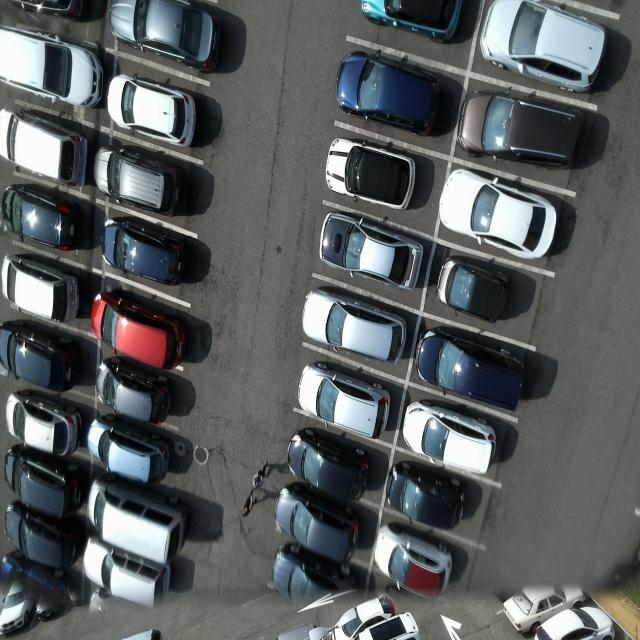car: (481, 1, 605, 94), (440, 169, 560, 262), (459, 86, 582, 176), (322, 208, 428, 295), (415, 329, 528, 410), (334, 49, 441, 134), (1, 25, 104, 112), (89, 482, 190, 568), (301, 289, 407, 366), (295, 361, 397, 441), (321, 138, 427, 213), (110, 1, 222, 70), (92, 291, 187, 372), (275, 484, 365, 569), (107, 72, 200, 151), (1, 109, 88, 191), (405, 400, 497, 474), (1, 443, 89, 518), (1, 250, 86, 327), (87, 413, 177, 485), (376, 522, 460, 599), (93, 144, 180, 218), (101, 217, 190, 289), (83, 538, 171, 610), (388, 460, 472, 534), (1, 182, 86, 253), (288, 428, 371, 500), (92, 359, 173, 431), (1, 326, 83, 394), (1, 390, 84, 455), (1, 504, 81, 570), (438, 257, 510, 324)
